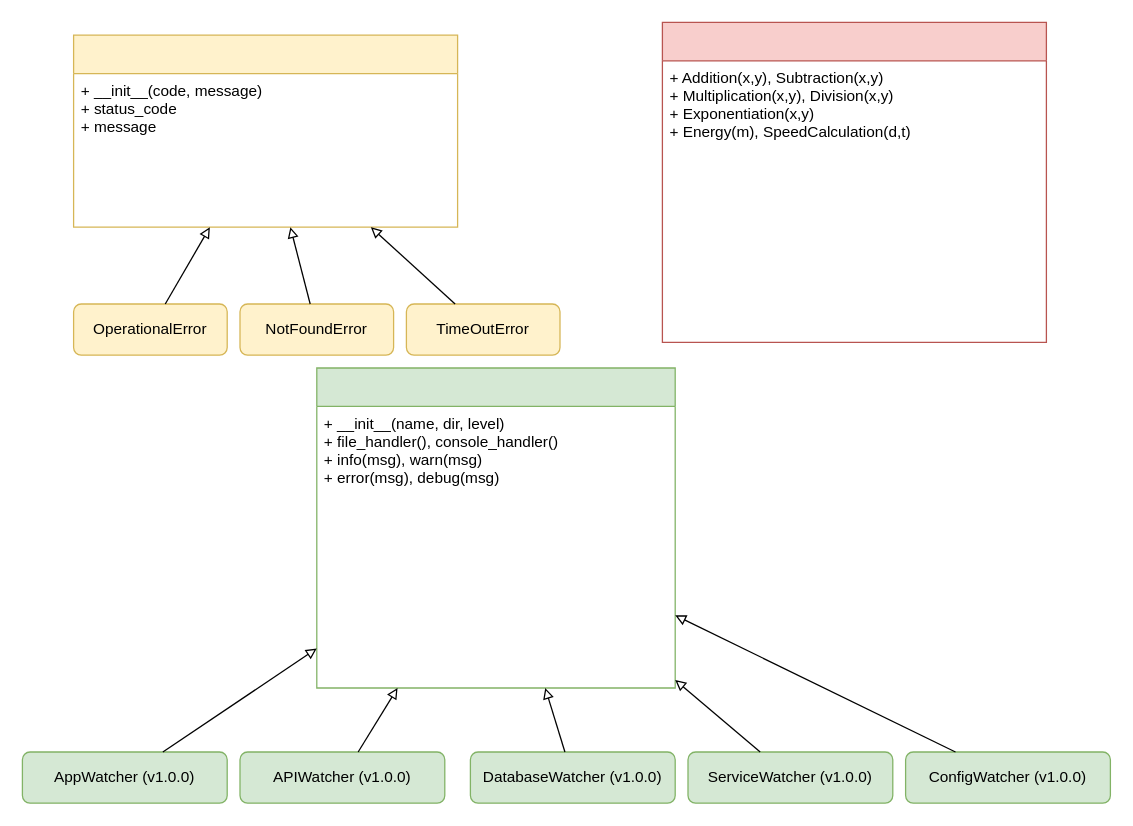
Image size: 1133x826. Some labels were removed from this diagram. The shapes that lost their labels are listed below. From the top down, each one's box as (x1, y1, x2, y2) in pixels, then its label:
(72, 34, 458, 227): ExceptionHandler (Base)
(661, 21, 1046, 342): MathInterPreter (v1.0.0)
(316, 367, 675, 688): Logger (v1.0.0)
